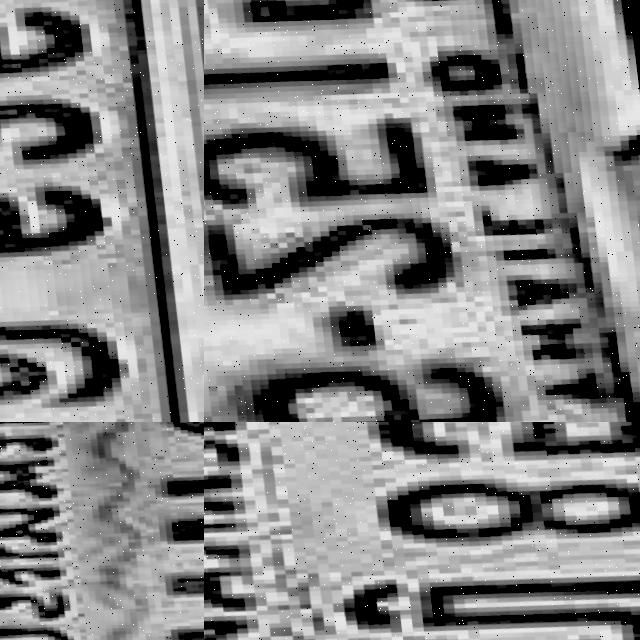license-plate: (204, 0, 640, 422), (204, 422, 640, 640), (0, 0, 204, 422), (0, 422, 204, 640)
